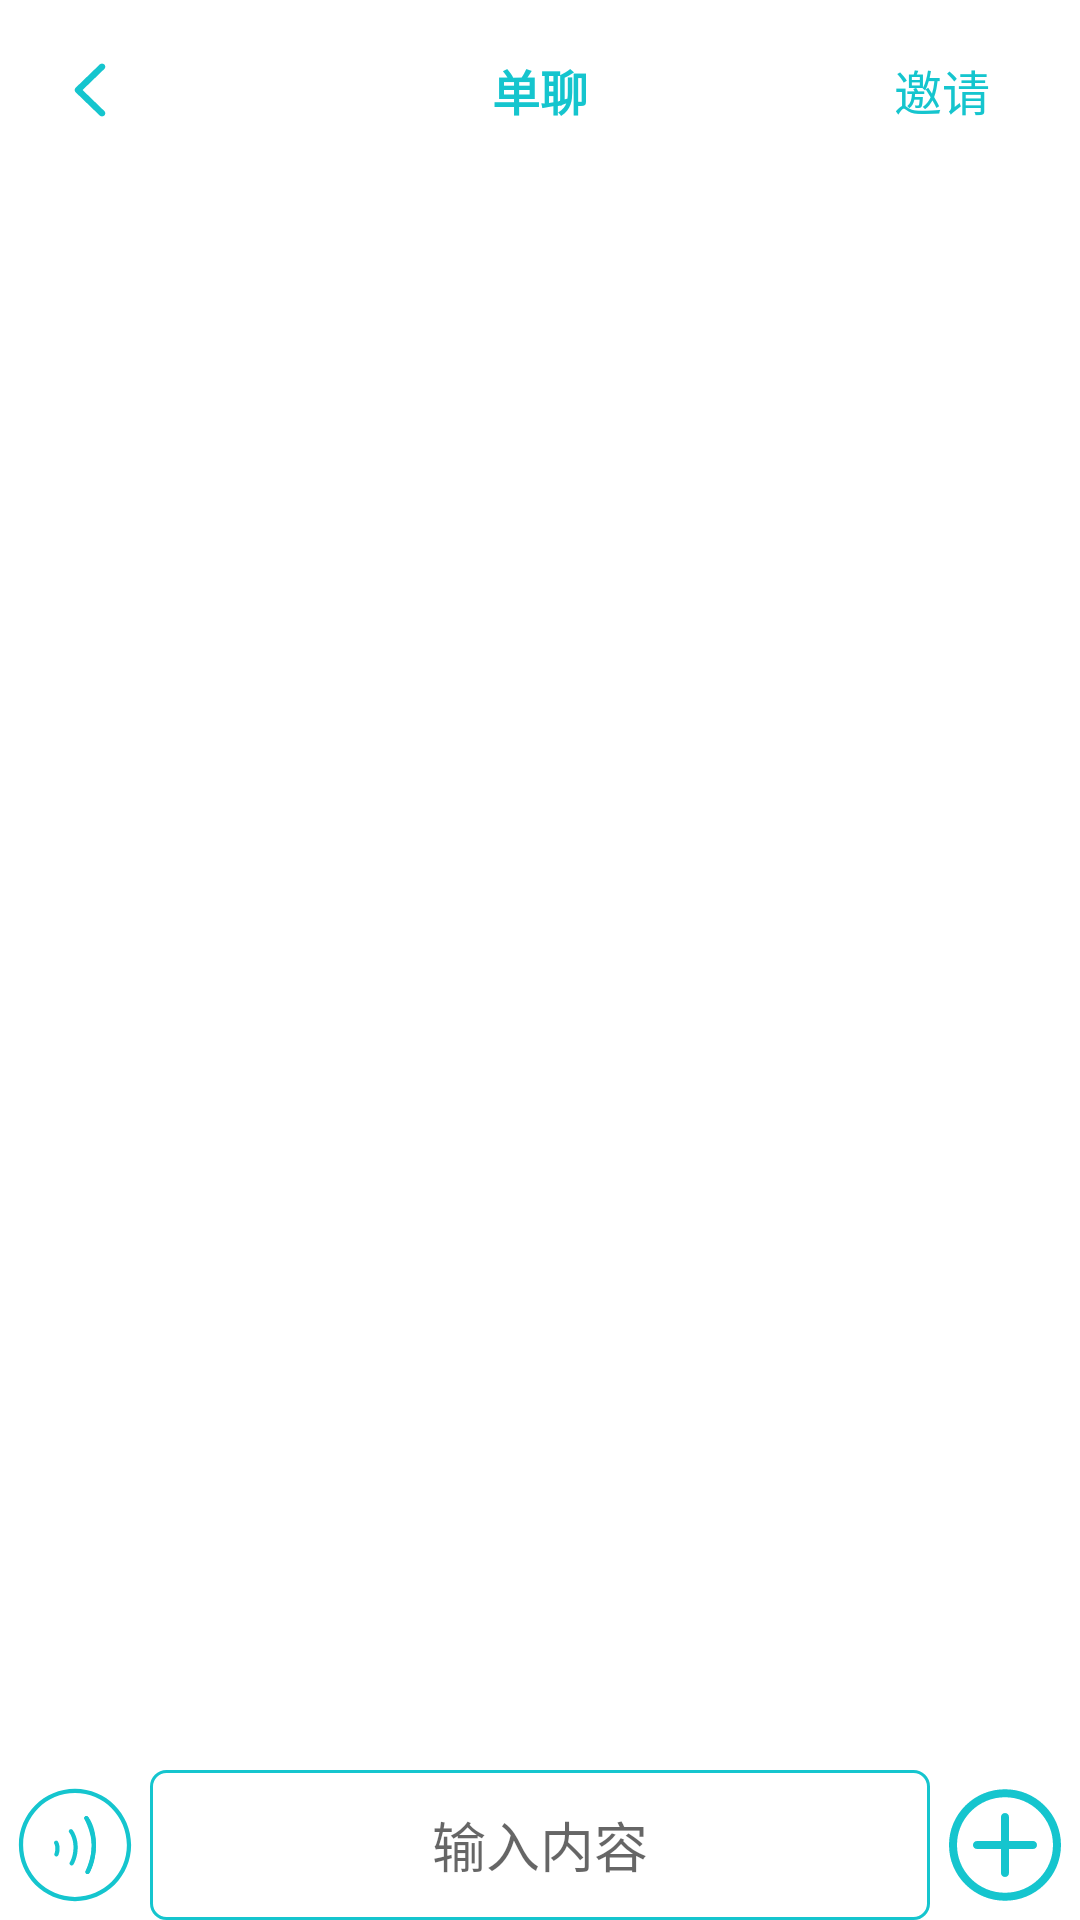

Screen size 1080 x 1920. Icon name, then its box in pixels as (x1, y1, x2, y2):
add: (949, 1789, 1061, 1901)
back: (74, 63, 106, 117)
voice: (18, 1788, 131, 1902)
